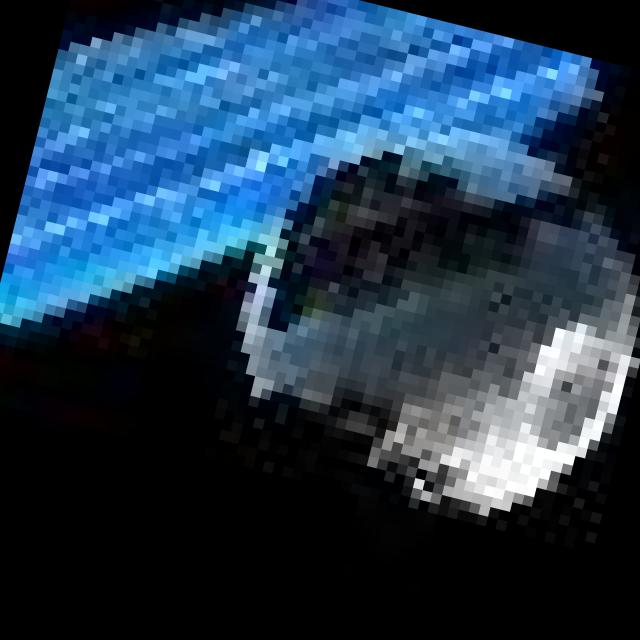Death Star: (189, 91, 640, 572)
